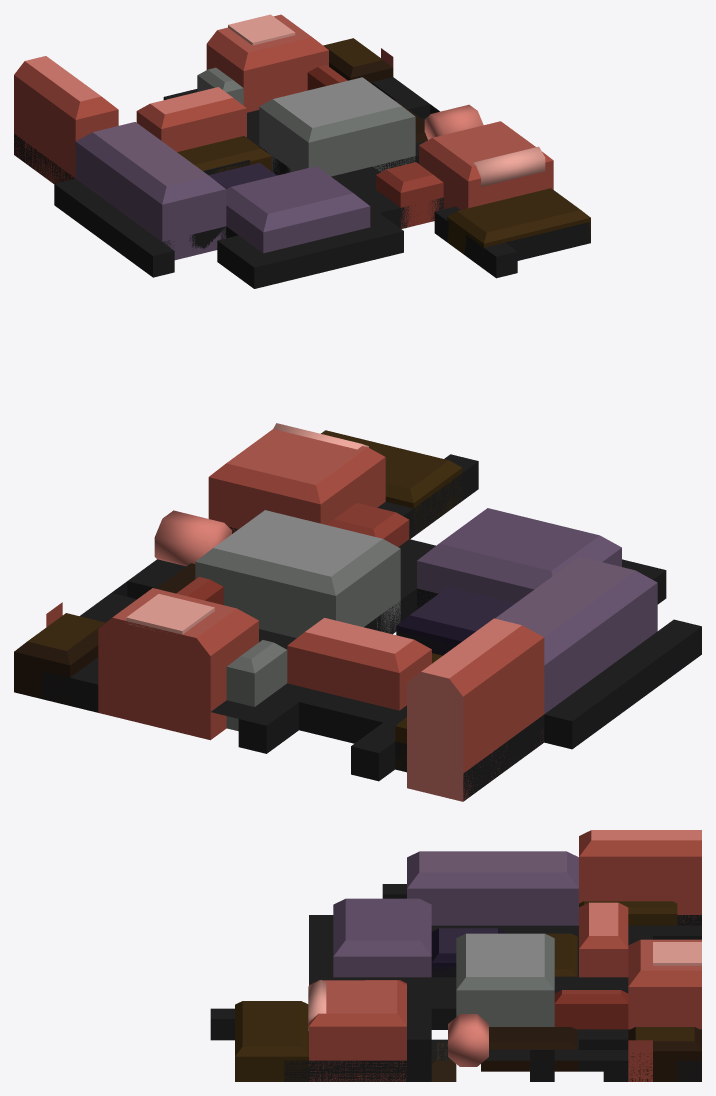
File: newshu-39.glb
3 renders of one model, top to bottom at view 1: azimuth 30°, elevation 25°; view 2: azimuth 150°, elevation 25°; view 3: azimuth 270°, elevation 25°, orthographic. The views are drawn at different scales.
Parts seen in each view (by area): view 1: newshu-39; view 2: newshu-39; view 3: newshu-39.
Part boxes in pixels (x1,y1,x2,y2): newshu-39: [14, 14, 590, 288]; newshu-39: [14, 423, 701, 801]; newshu-39: [210, 830, 701, 1081].
Bounding box in the file's own units: 1.42 × 0.34 × 2.33.
